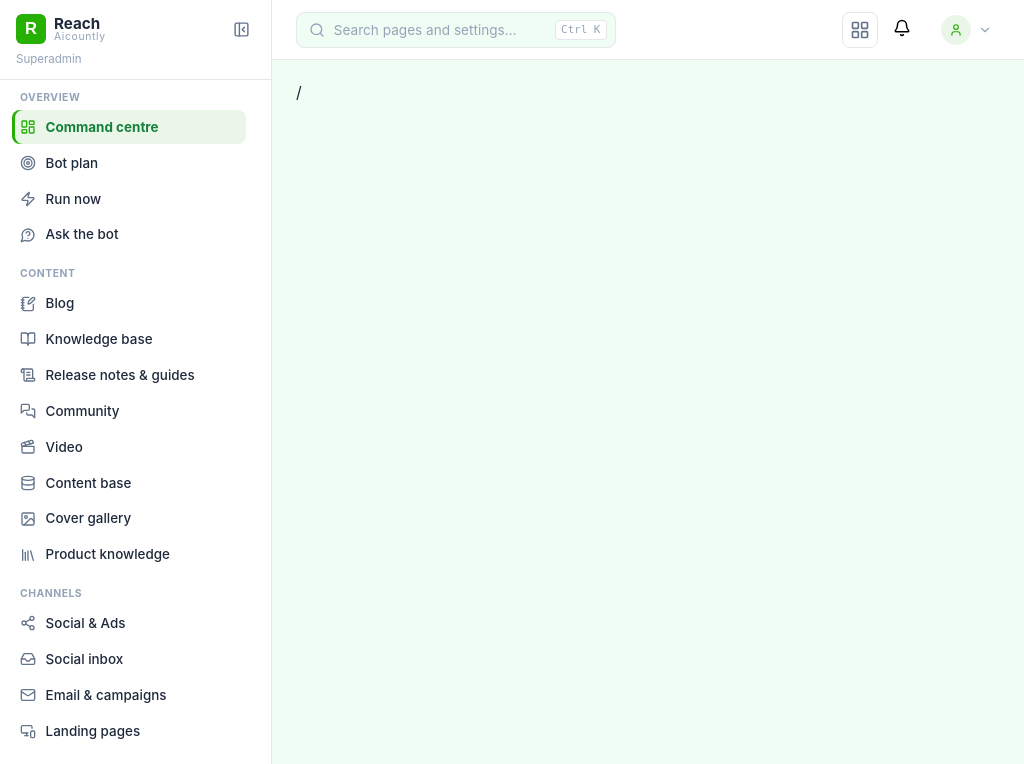
Test: ReachLayout — responsive shell › header: user menu shows who is signed in and offers sign out
The width and height of the screenshot is (1024, 764).
Click the button with test id "user-menu-button": (968, 30) 936,10 -> 1000,49
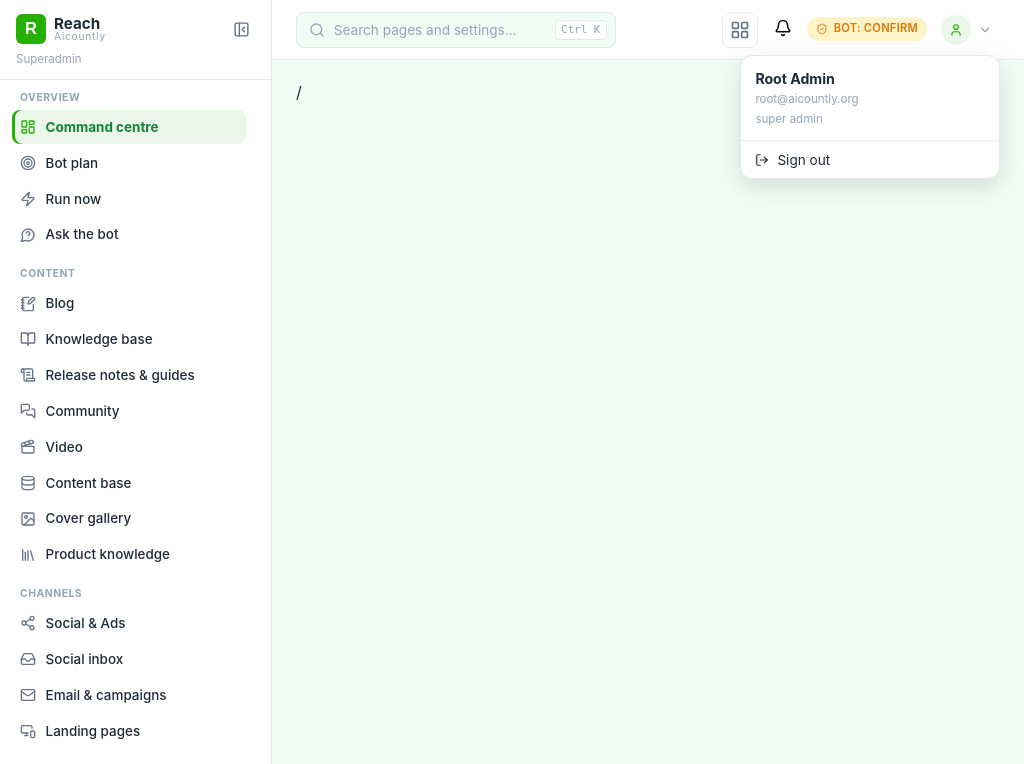
expect the text "root@aicountly.org" is shown: met, box 755,92 -> 859,106
expect the button "Sign out" is shown: met, box 741,141 -> 999,178
